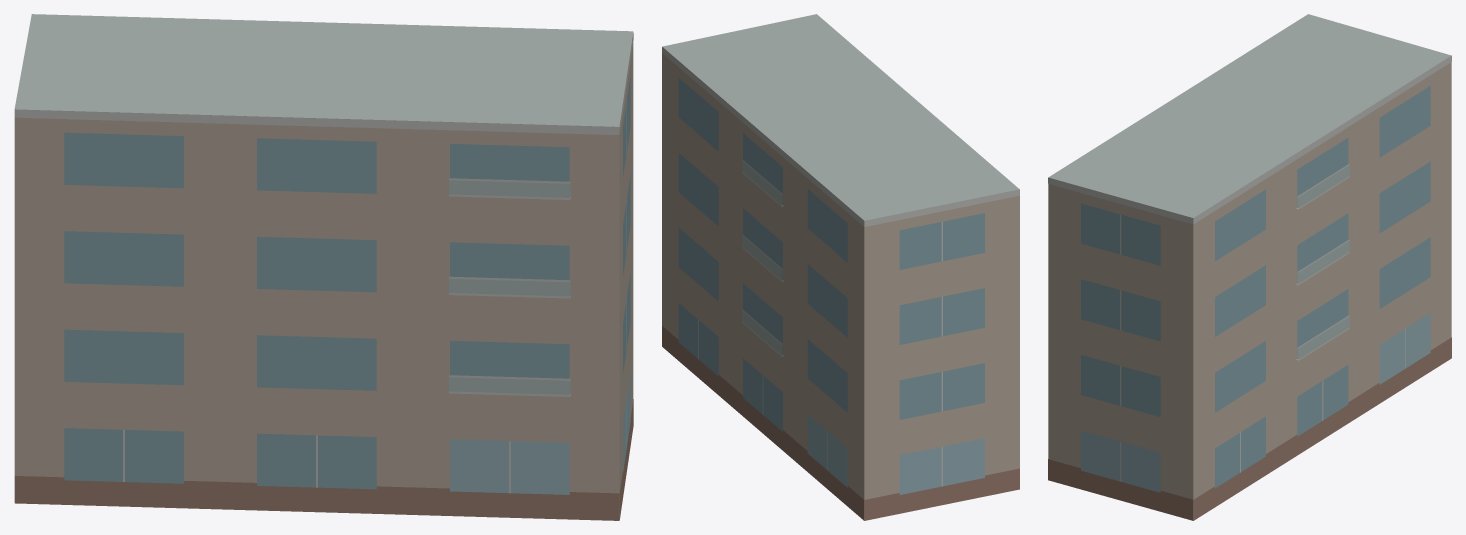
File: survey-upis-33025507.glb
3 views of the same model, side by side, from view 1: azimuth 30°, elevation 25°; view 2: azimuth 150°, elevation 25°; view 3: azimuth 270°, elevation 25° (orthographic). The views are drawn at different scales.
Visible parts, largest first — view 1: survey-upis-33025507.tmp; view 2: survey-upis-33025507.tmp; view 3: survey-upis-33025507.tmp.
Boxes of the visible parts, x1,y1,x2,y2 form: survey-upis-33025507.tmp: (14, 14, 633, 520); survey-upis-33025507.tmp: (662, 14, 1019, 520); survey-upis-33025507.tmp: (1048, 14, 1451, 520).
Bounding box in the file's own units: 16.85 × 11.65 × 14.08.
